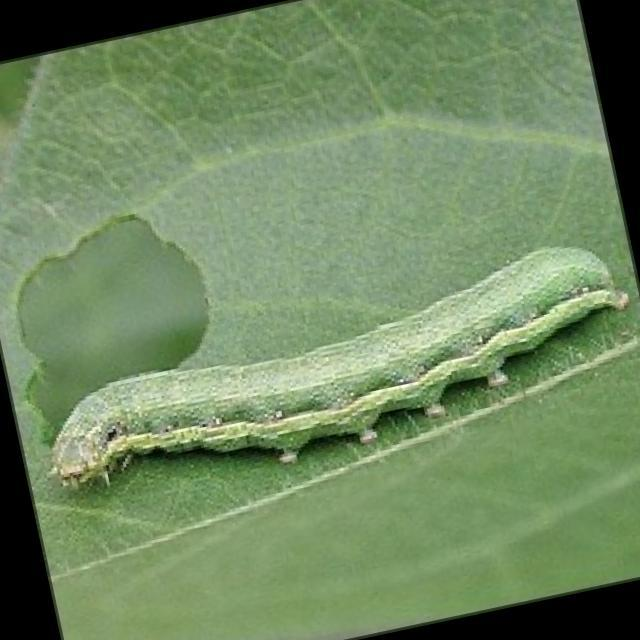Plaga: (8, 213, 640, 539)
